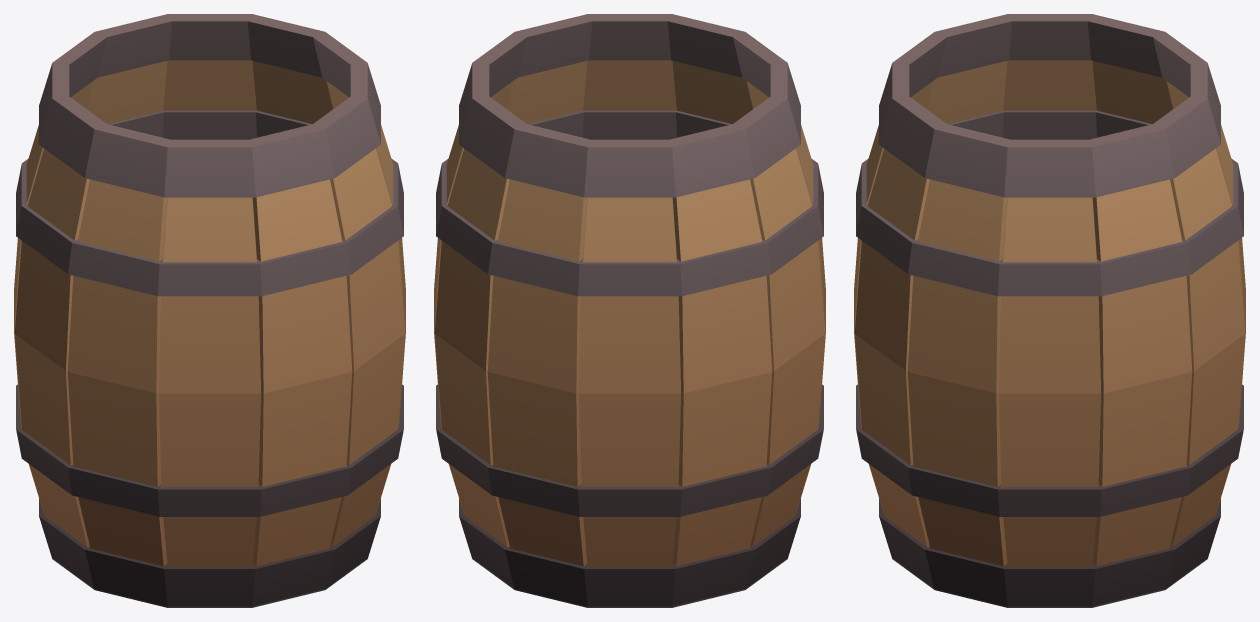
The model's file is SM_Barrell_Open_01.fbx.
The picture shows the model from 3 angles, left to right: view 1: azimuth 30°, elevation 25°; view 2: azimuth 150°, elevation 25°; view 3: azimuth 270°, elevation 25°; orthographic projection.
Parts seen in each view (by area): view 1: SM_Barrell_Open_01; view 2: SM_Barrell_Open_01; view 3: SM_Barrell_Open_01.
Boxes of the visible parts, bbox=[...] form: SM_Barrell_Open_01: bbox=[14, 14, 405, 607]; SM_Barrell_Open_01: bbox=[434, 14, 825, 607]; SM_Barrell_Open_01: bbox=[854, 14, 1245, 607].
Bounding box in the file's own units: 86.04 × 112 × 86.04.
